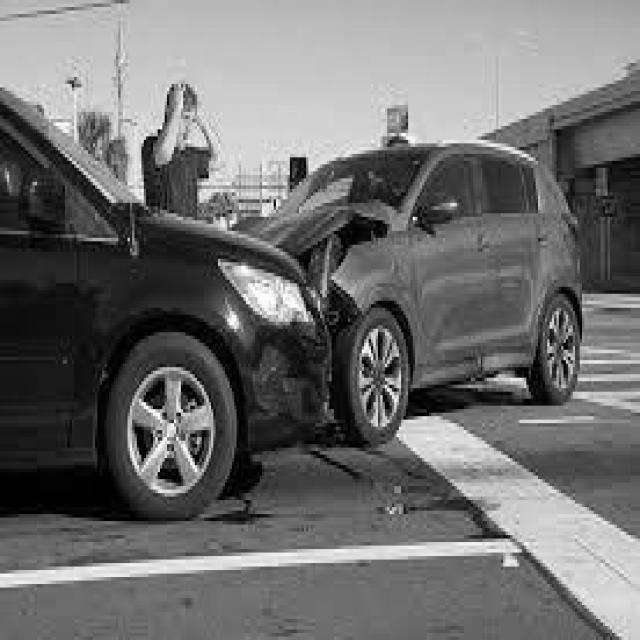moderate: (0, 77, 594, 528)
